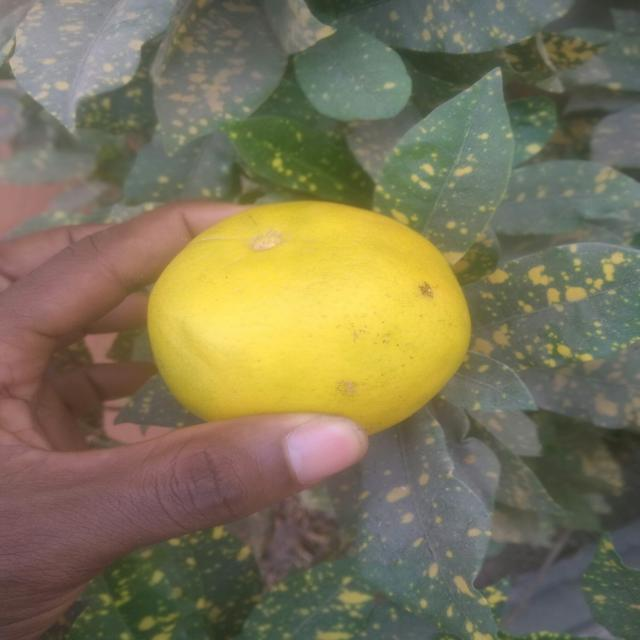Ripe orange: (141, 194, 476, 453)
